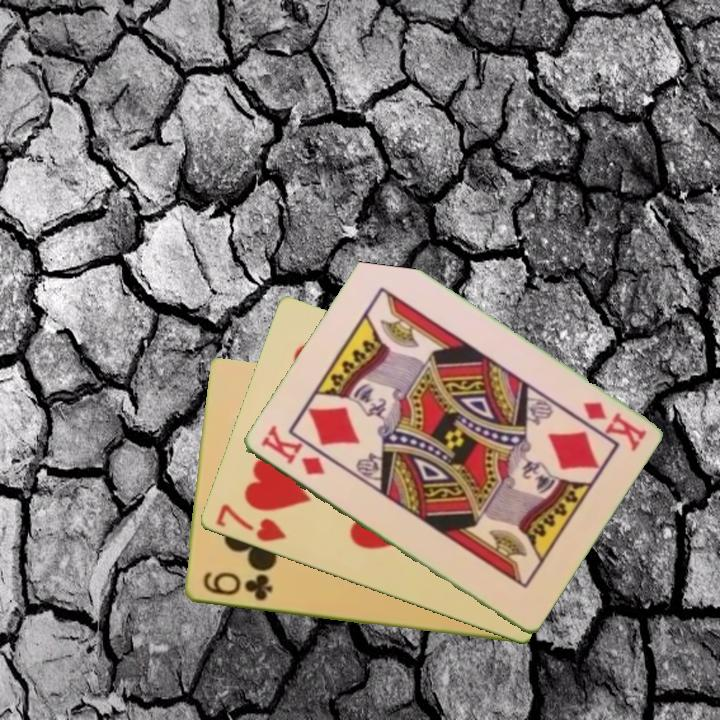6c: (199, 568, 275, 604)
7h: (212, 500, 289, 545)
Kd: (257, 423, 328, 479), (579, 398, 649, 454)
